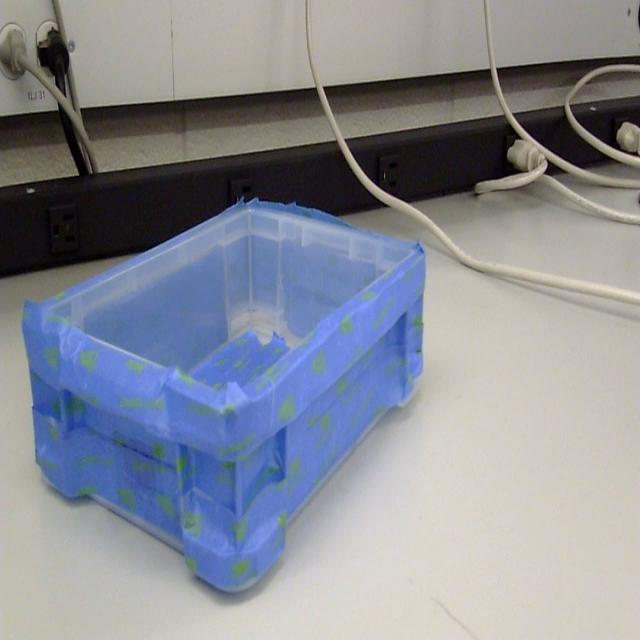bucket: (20, 199, 427, 598)
